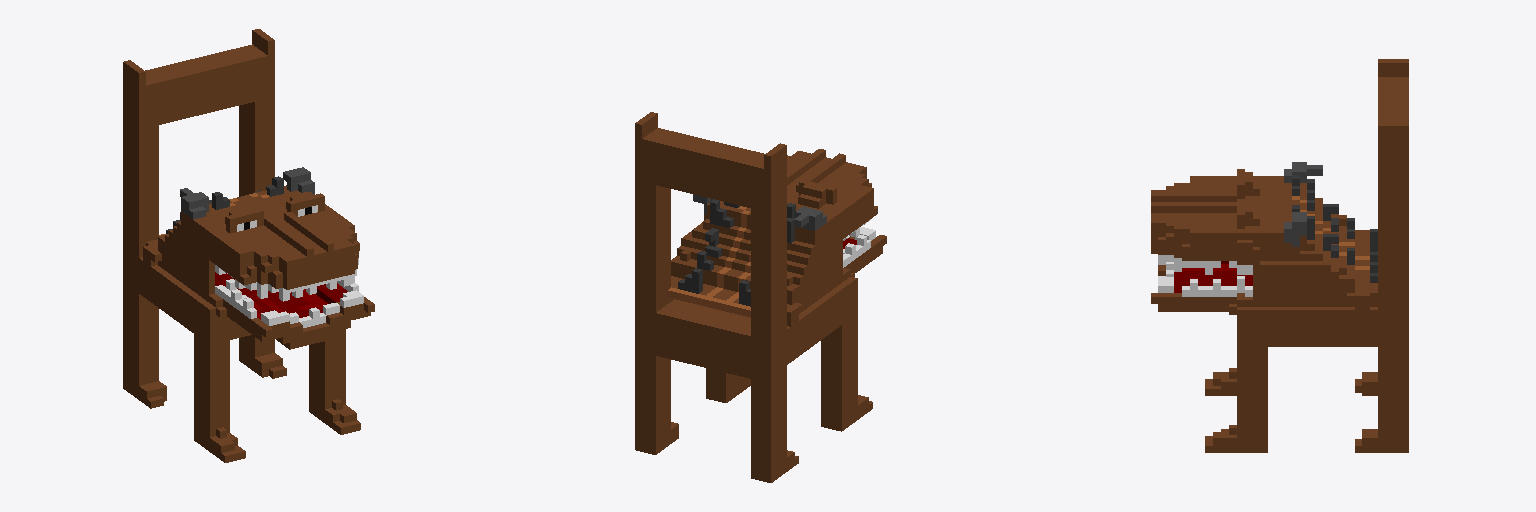
3 views of the same model, side by side, from view 1: azimuth 30°, elevation 25°; view 2: azimuth 150°, elevation 25°; view 3: azimuth 270°, elevation 25° (orthographic).
Parts seen in each view (by area): view 1: object 1; view 2: object 1; view 3: object 1.
Boxes of the visible parts, x1=… form: object 1: x1=123, y1=29, x2=374, y2=462; object 1: x1=635, y1=112, x2=886, y2=482; object 1: x1=1151, y1=59, x2=1408, y2=452.
Size of the model in its own units: 2 by 4.6 by 3.3.
1 materials, 1 textured.